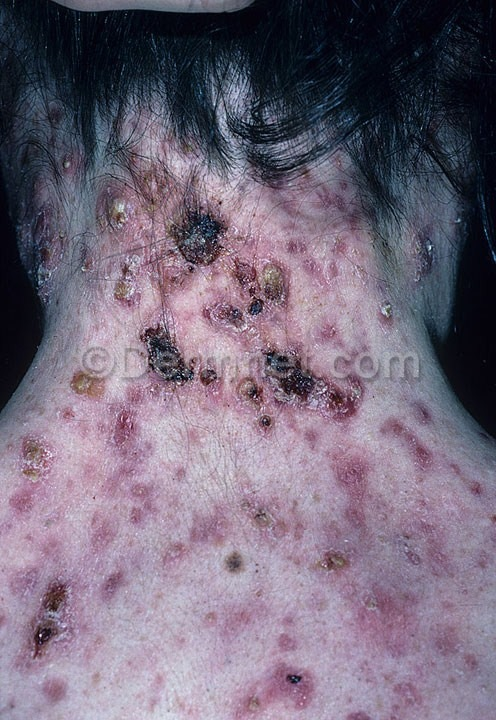Acne: (19, 149, 460, 691)
